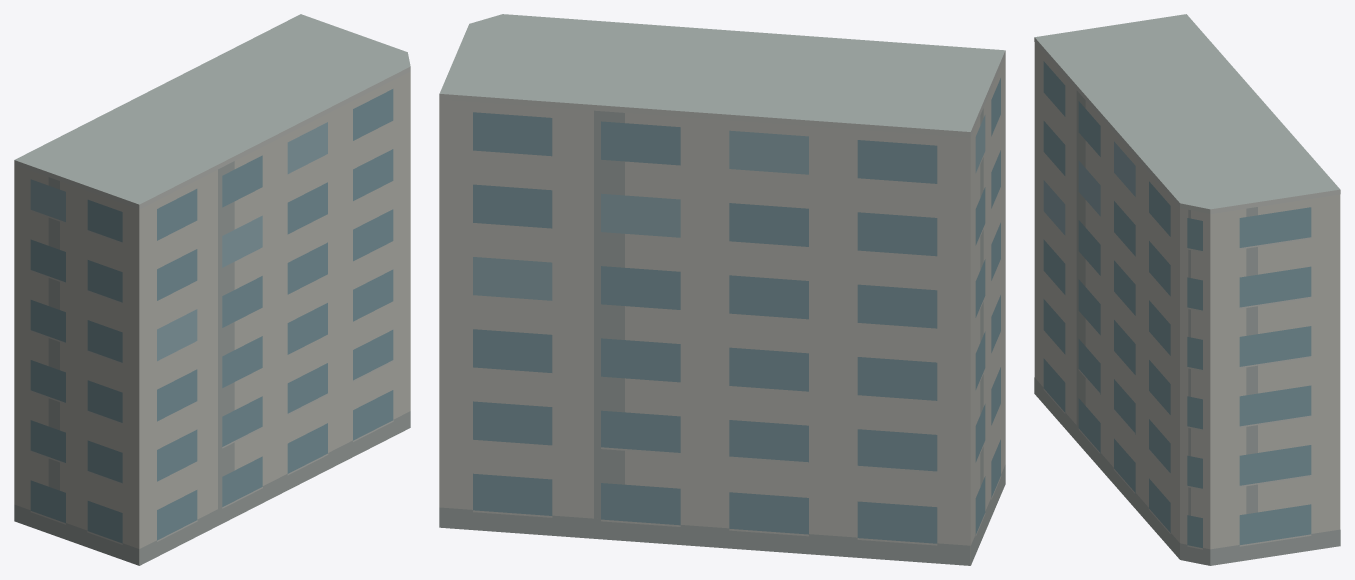
The model's file is survey-upis-32866043.glb.
3 renders of one model, left to right at view 1: azimuth 30°, elevation 25°; view 2: azimuth 150°, elevation 25°; view 3: azimuth 270°, elevation 25°, orthographic. The views are drawn at different scales.
Parts seen in each view (by area): view 1: survey-upis-32866043.tmp; view 2: survey-upis-32866043.tmp; view 3: survey-upis-32866043.tmp.
Boxes of the visible parts, x1,y1,x2,y2 form: survey-upis-32866043.tmp: (14,14,410,565); survey-upis-32866043.tmp: (439,14,1005,565); survey-upis-32866043.tmp: (1034,14,1340,565).
Bounding box in the file's own units: 21.51 × 18.3 × 14.24.
